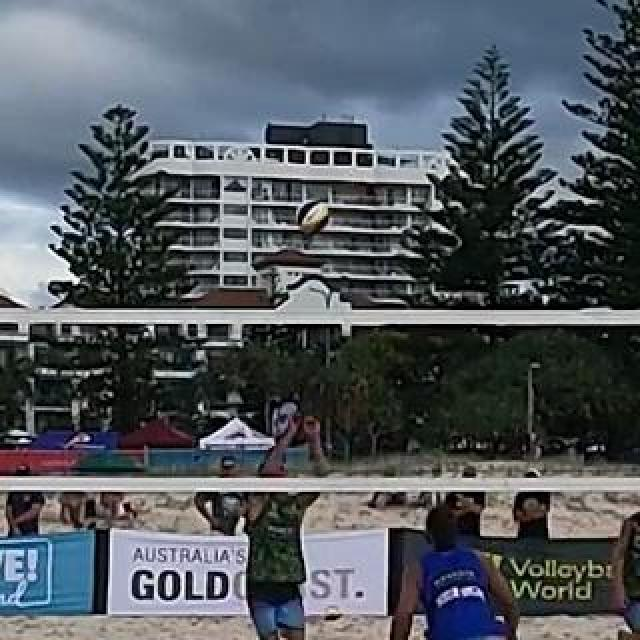volleyball: (299, 201, 331, 233), (323, 602, 345, 622)
